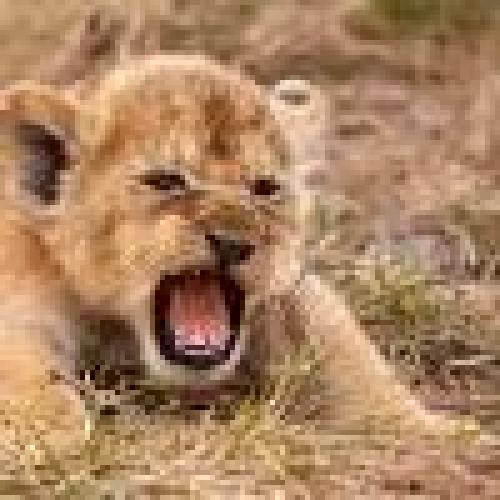lion-endangered: (4, 55, 439, 450)
